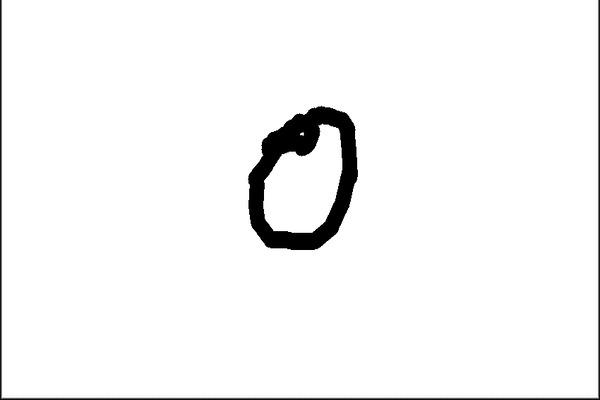O: (238, 93, 361, 261)
